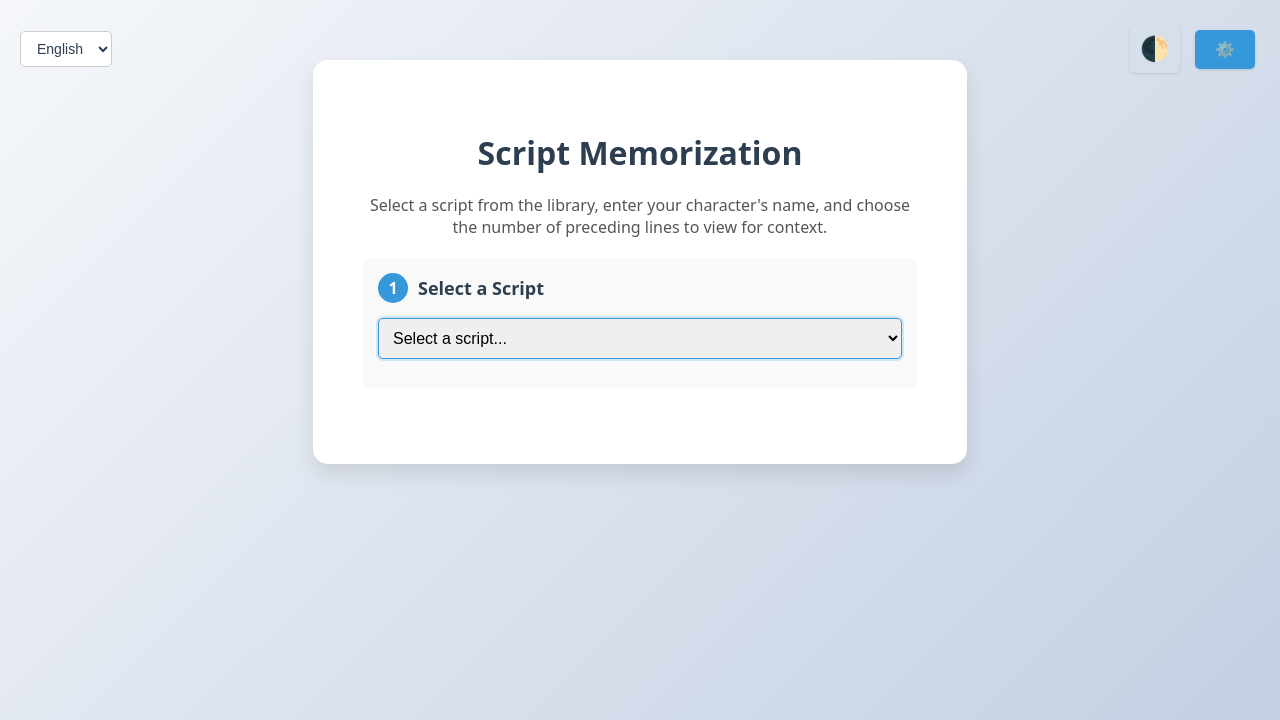
Test case: Script Memorization Feature › should extract lines for the selected current-year character
Select "IL CALAPRANZI" in the dropdown below "Script Memorization" at (640,339), box [378, 318, 902, 359]
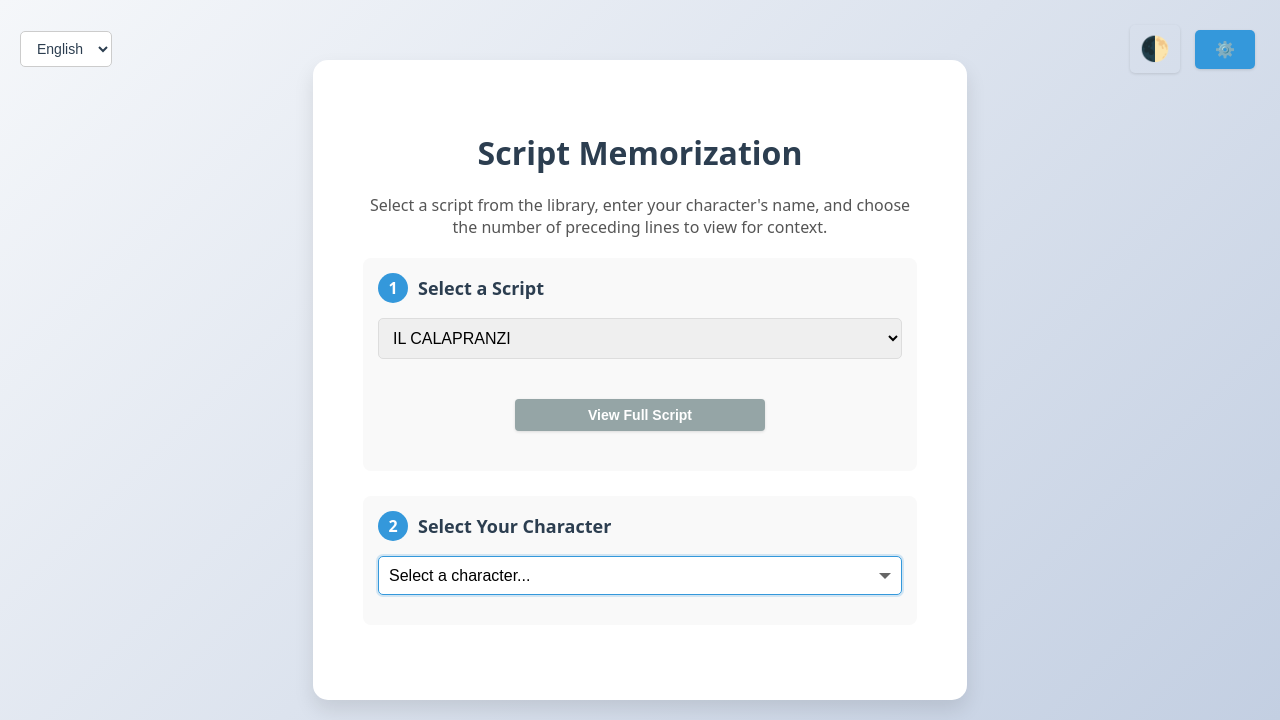
Select "BEN" in the dropdown with id "characterSelect" at (640,576), box [378, 556, 902, 595]
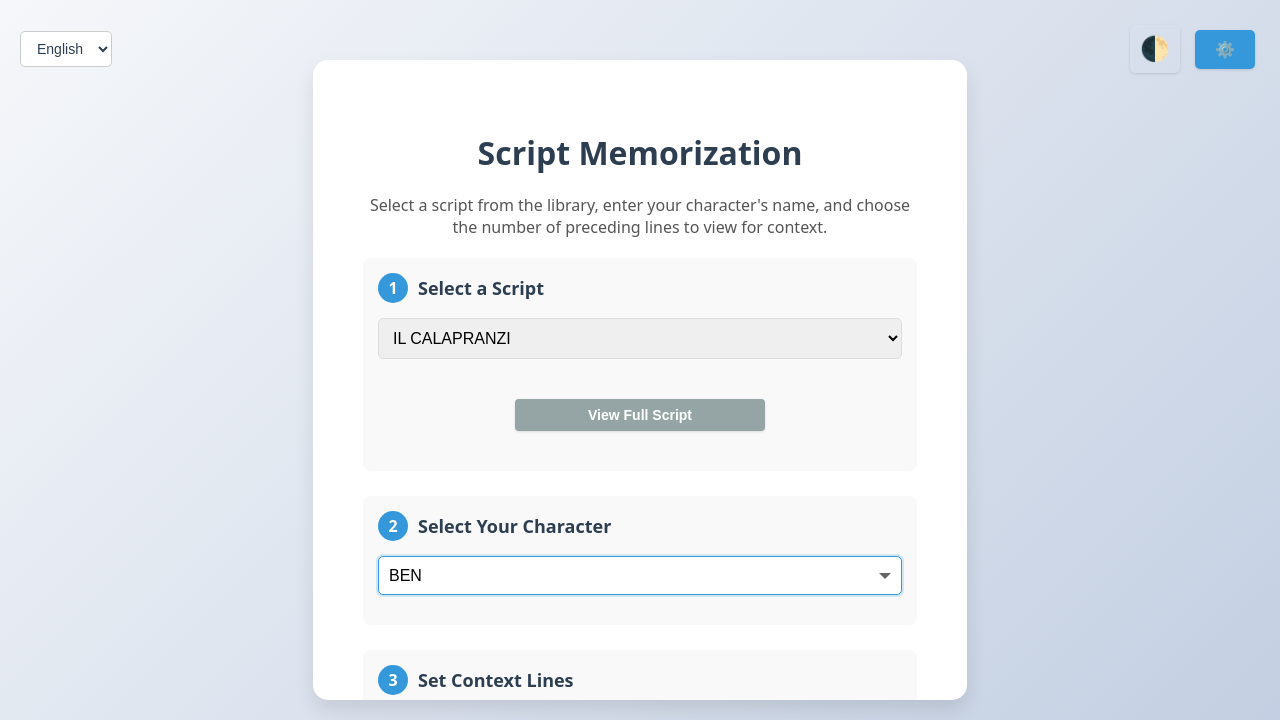
Scroll
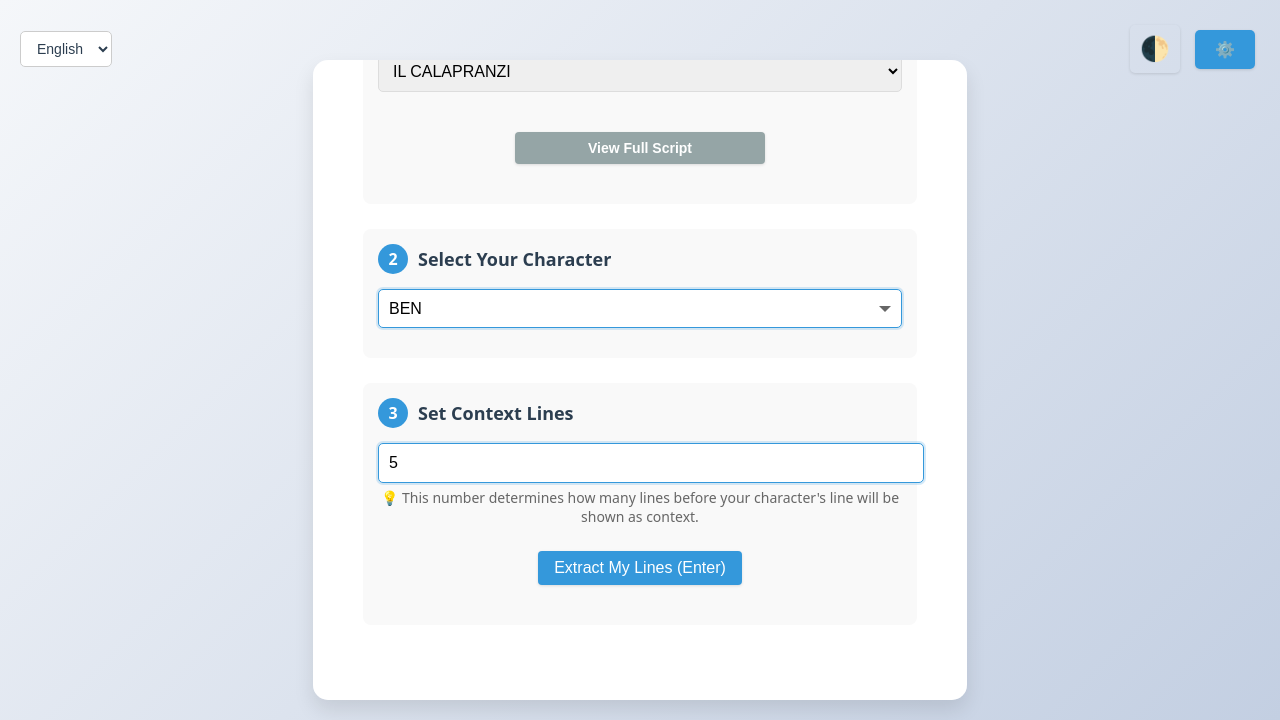
Replace the text in the number field with "1" at (651,463), box [378, 443, 924, 483]
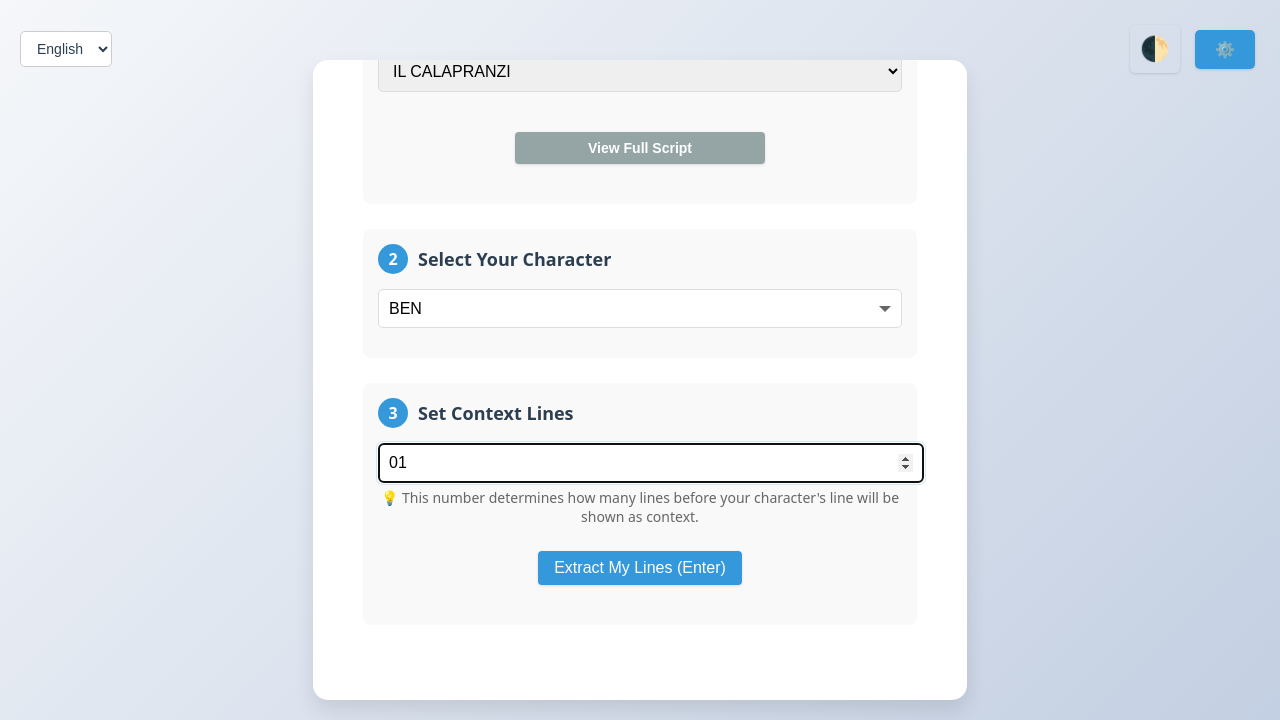
Click the button "Extract My Lines (Enter)".
click(640, 568)  # box [538, 551, 742, 585]
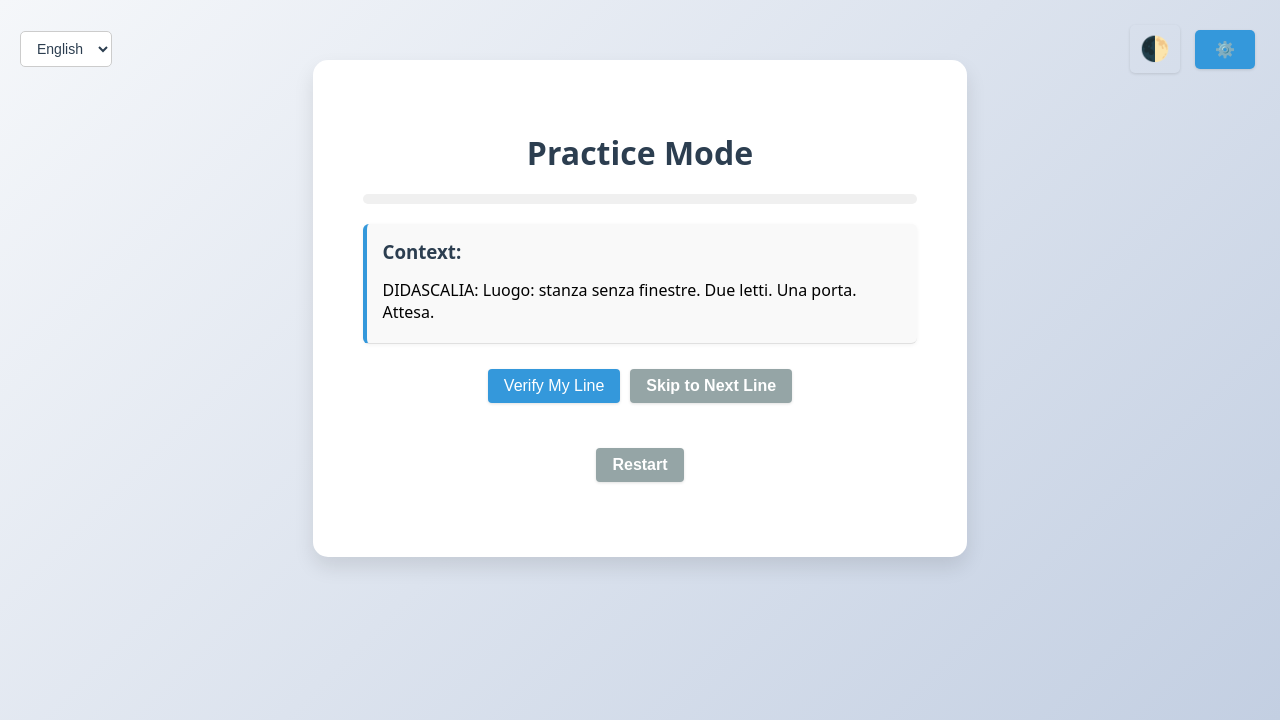
Now the heading "Practice Mode" is shown, box [527, 131, 753, 174]
Now the element with class "context-section" is shown, box [364, 224, 917, 344]
Now the button "Verify My Line" is shown, box [488, 369, 620, 403]
